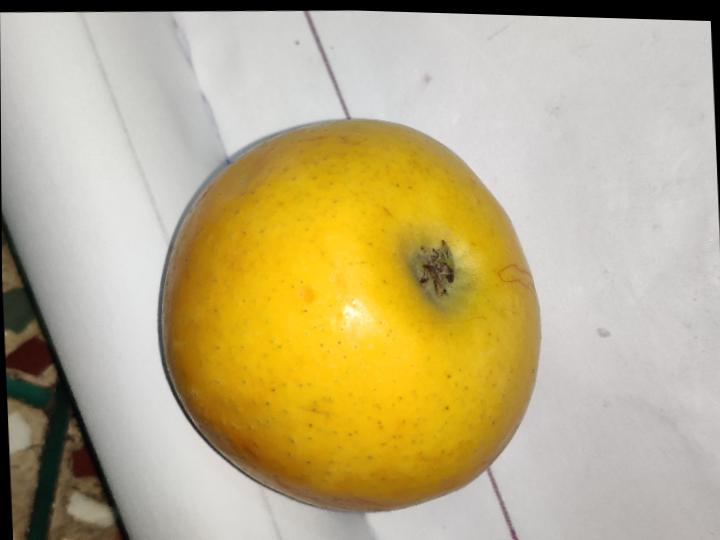apple: (161, 122, 540, 510)
surface_damage: (497, 264, 536, 299)
